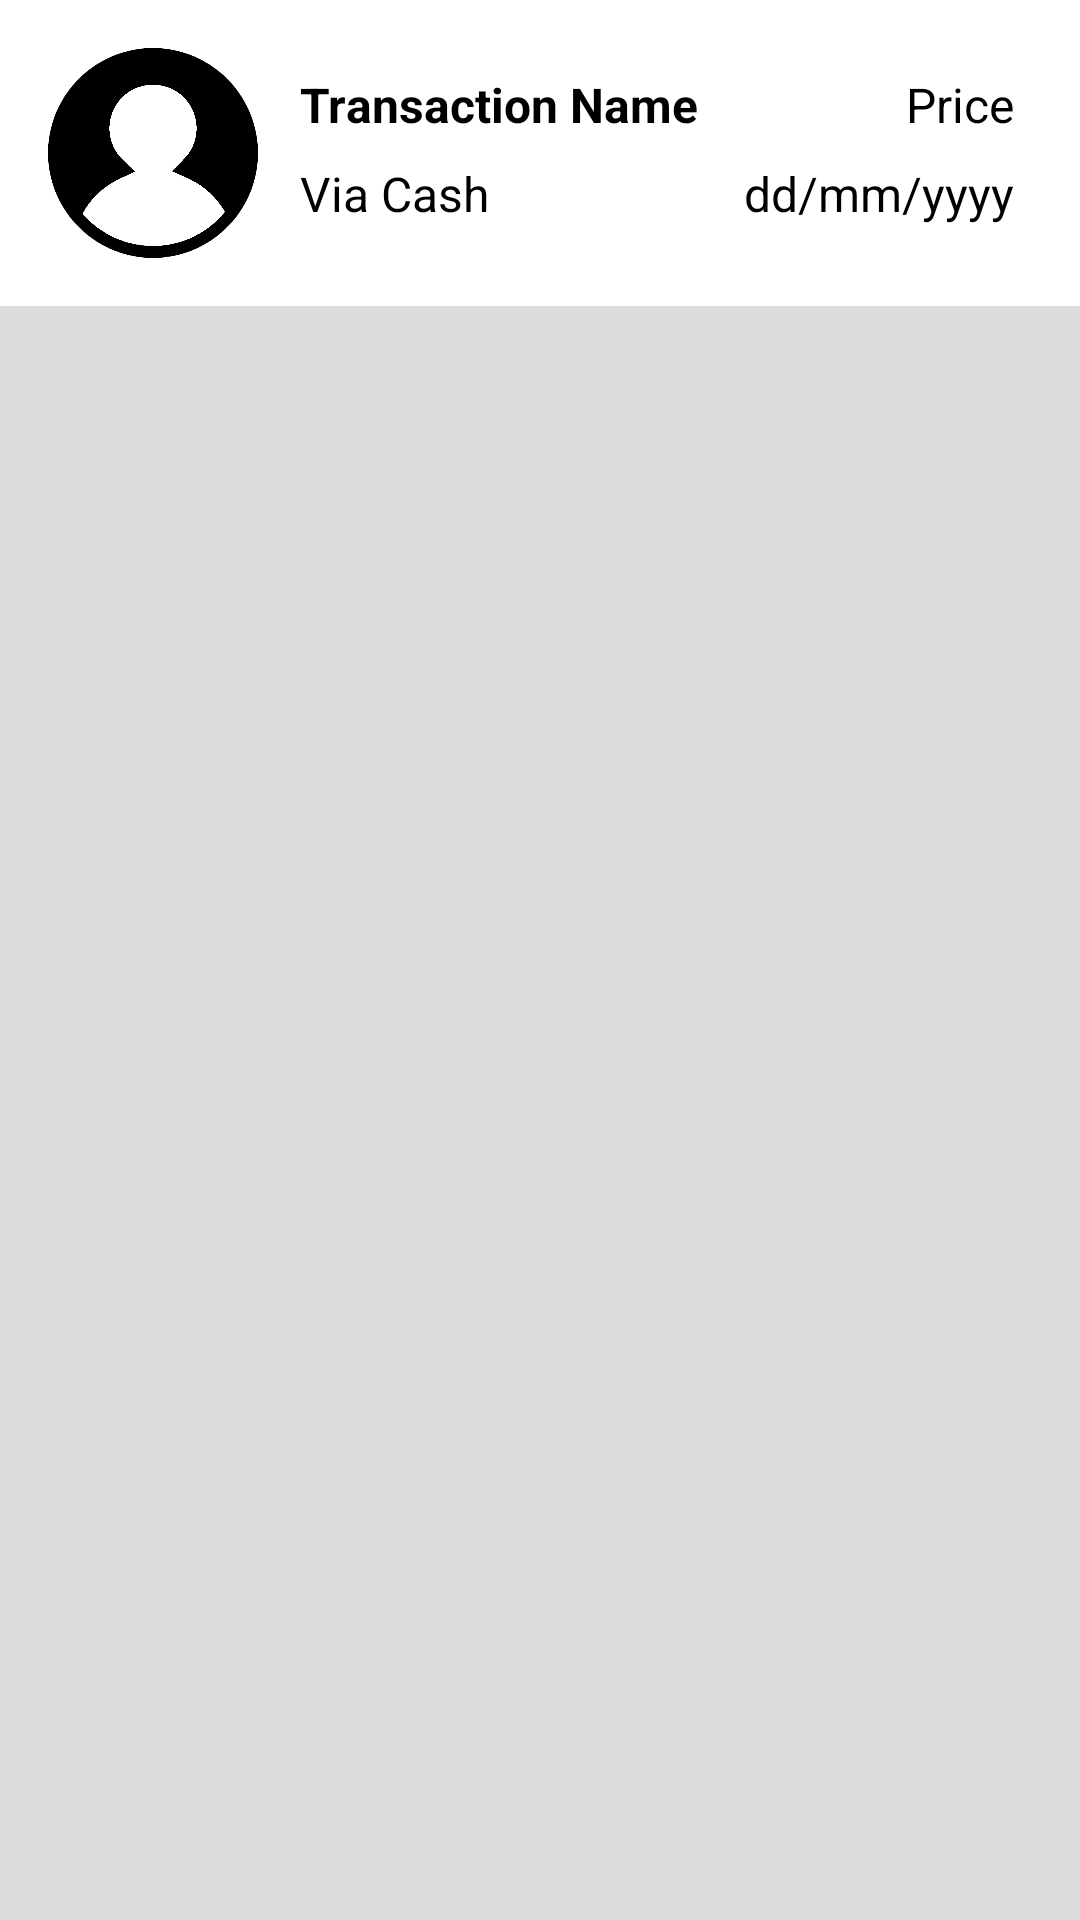

Icons on this 1080px x 1920px Android screen, each with its box as region(x1, y1, x2, y2):
profile: region(48, 48, 258, 258)
